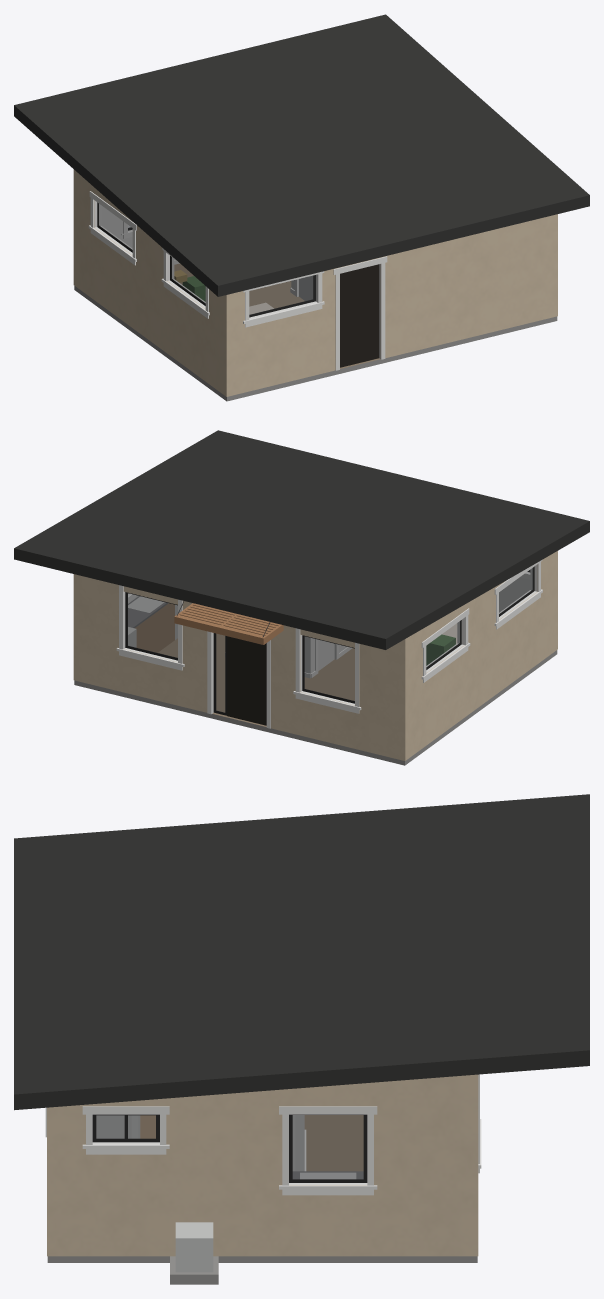
File: laurel_a1_460_lod0.glb
3 views of the same model, one above another, from view 1: azimuth 30°, elevation 25°; view 2: azimuth 150°, elevation 25°; view 3: azimuth 270°, elevation 25° (orthographic). The views are drawn at different scales.
Parts seen in each view (by area): view 1: Roof_shed, Sheathing_rear, Sheathing_x0, Leaf_D-6, Slab, Trim_ext_siding_rear, Trim_ext_siding_x0, Glazing_W-C3, Glazing_W-C1, Glazing_W-C2, Wall_x0, Wall_front; view 2: Roof_shed, Sheathing_front, Sheathing_x0, Slab, Leaf_D-1, Trim_ext_siding_front, Glazing_W-A2, Glazing_W-A1, Trim_ext_siding_x0, Canopy_slats, Fix_counter, Canopy_frame (+8 smaller); view 3: Roof_shed, Sheathing_x24, Slab, Trim_ext_siding_x24, Glazing_W-D1, Equip_condenser, Glazing_W-E1, Sash_W-D1, Equip_pad, Leaf_D-5, Sash_W-E1.
Part boxes in pixels (x1,y1,x2,y2): Roof_shed: [14, 14, 589, 296]; Sheathing_rear: [226, 214, 557, 396]; Sheathing_x0: [74, 170, 226, 396]; Leaf_D-6: [340, 264, 379, 367]; Slab: [74, 263, 557, 401]; Trim_ext_siding_rear: [243, 256, 387, 370]; Trim_ext_siding_x0: [88, 191, 209, 318]; Glazing_W-C3: [249, 276, 312, 314]; Glazing_W-C1: [99, 204, 132, 249]; Glazing_W-C2: [172, 257, 205, 302]; Wall_x0: [94, 200, 205, 308]; Wall_front: [101, 205, 175, 259]; Roof_shed: [14, 430, 589, 649]; Sheathing_front: [73, 574, 405, 760]; Sheathing_x0: [405, 551, 557, 760]; Slab: [74, 634, 557, 765]; Leaf_D-1: [227, 636, 266, 725]; Trim_ext_siding_front: [116, 585, 361, 728]; Glazing_W-A2: [305, 636, 354, 700]; Glazing_W-A1: [128, 593, 177, 657]; Trim_ext_siding_x0: [421, 560, 542, 682]; Canopy_slats: [177, 603, 280, 637]; Fix_counter: [135, 603, 174, 652]; Canopy_frame: [174, 603, 283, 644]; Roof_shed: [14, 794, 589, 1110]; Sheathing_x24: [47, 1074, 477, 1256]; Slab: [47, 1115, 477, 1262]; Trim_ext_siding_x24: [82, 1106, 377, 1195]; Glazing_W-D1: [293, 1115, 363, 1178]; Equip_condenser: [175, 1222, 213, 1272]; Glazing_W-E1: [96, 1115, 155, 1138]; Sash_W-D1: [289, 1114, 367, 1182]; Equip_pad: [170, 1256, 218, 1284]; Leaf_D-5: [96, 1115, 131, 1138]; Sash_W-E1: [92, 1114, 159, 1142].
Size of the model in its own units: 8.37 by 3.45 by 7.82.
23 materials, 2 textured.
